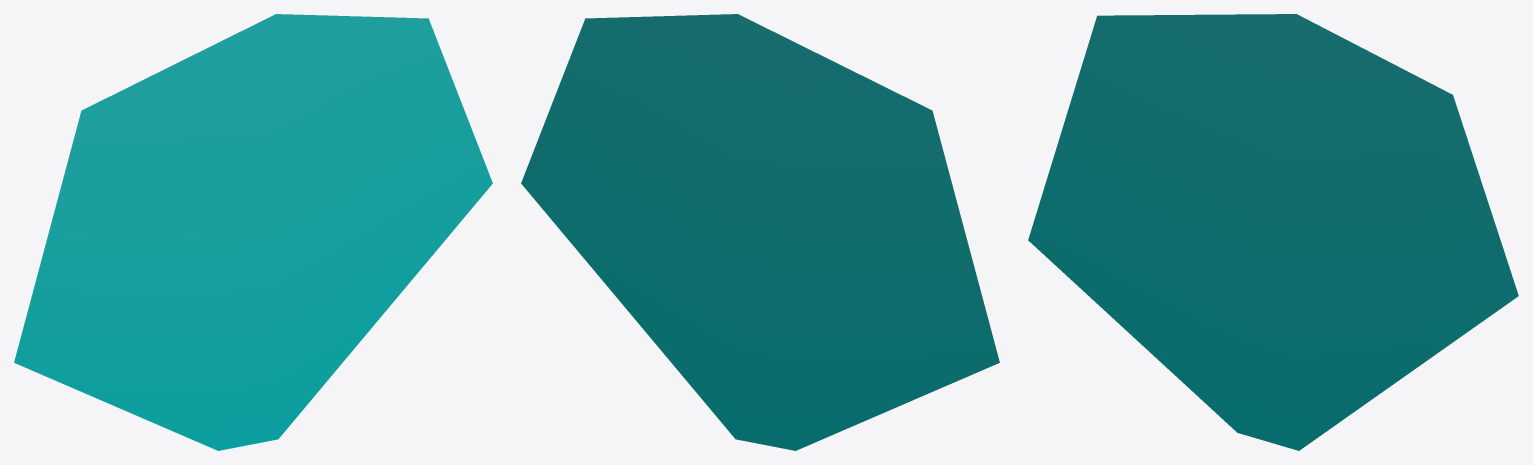
The model's file is Black_Locust_wdvhberja_Mid_wdvhberja_VarD_LOD3.fbx.
3 renders of one model, left to right at view 1: azimuth 30°, elevation 25°; view 2: azimuth 150°, elevation 25°; view 3: azimuth 330°, elevation 25°, orthographic. The views are drawn at different scales.
Visible parts, largest first — view 1: _3w94_VarD_LOD4; view 2: _3w94_VarD_LOD4; view 3: _3w94_VarD_LOD4.
Boxes of the visible parts, x1,y1,x2,y2 form: _3w94_VarD_LOD4: (14,14,492,450); _3w94_VarD_LOD4: (521,14,999,450); _3w94_VarD_LOD4: (1028,14,1518,450).
Size of the model in its own units: 56.34 by 47.87 by 0.
